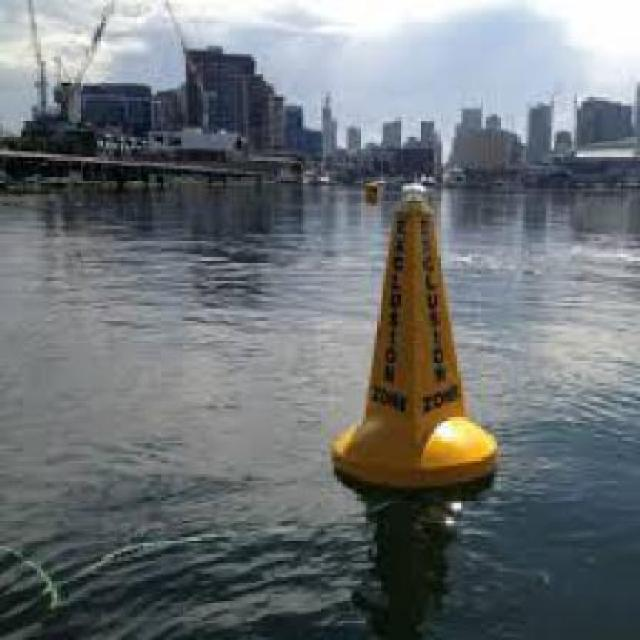buoy: (347, 192, 510, 501)
